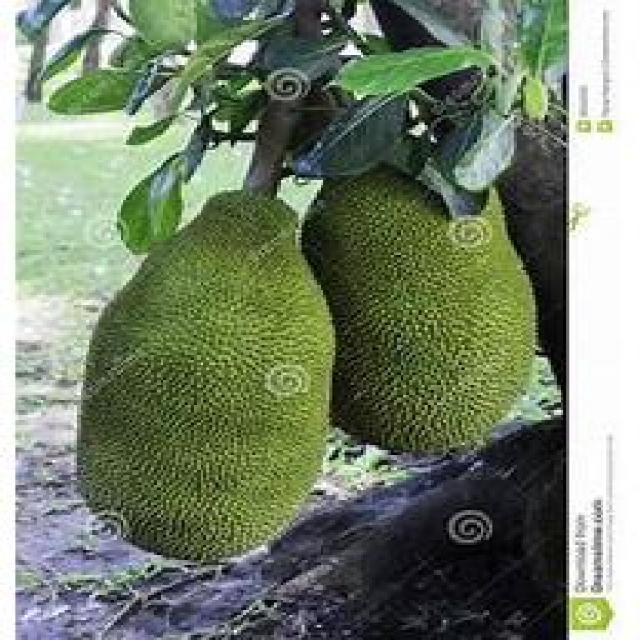Fruit: (50, 168, 372, 588), (283, 140, 560, 480)
